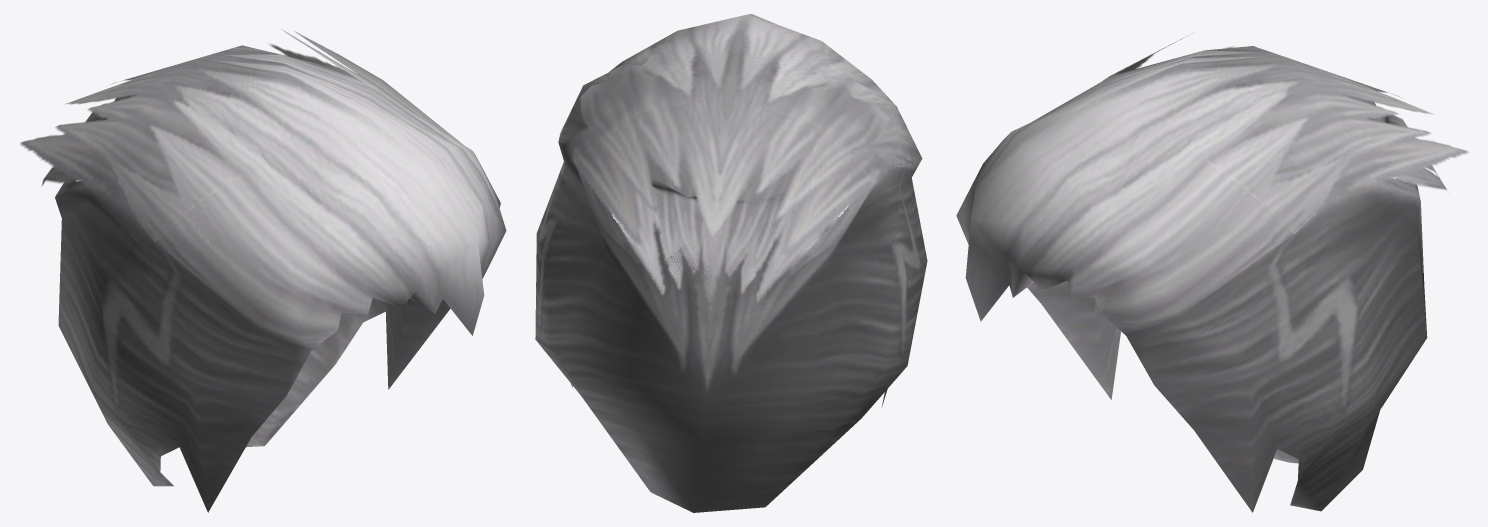
File: MHair_0.glb
The picture shows the model from 3 angles, left to right: view 1: azimuth 30°, elevation 25°; view 2: azimuth 150°, elevation 25°; view 3: azimuth 270°, elevation 25°; orthographic projection. The views are drawn at different scales.
Visible parts, largest first — view 1: #B1L; view 2: #B1L; view 3: #B1L.
Boxes of the visible parts, box(x1,y1,x2,y2) form: #B1L: box(20, 29, 506, 512); #B1L: box(535, 14, 927, 512); #B1L: box(956, 32, 1469, 512).
Bounding box in the file's own units: 0.0278 × 0.0317 × 0.0327.
1 material, 1 textured.
